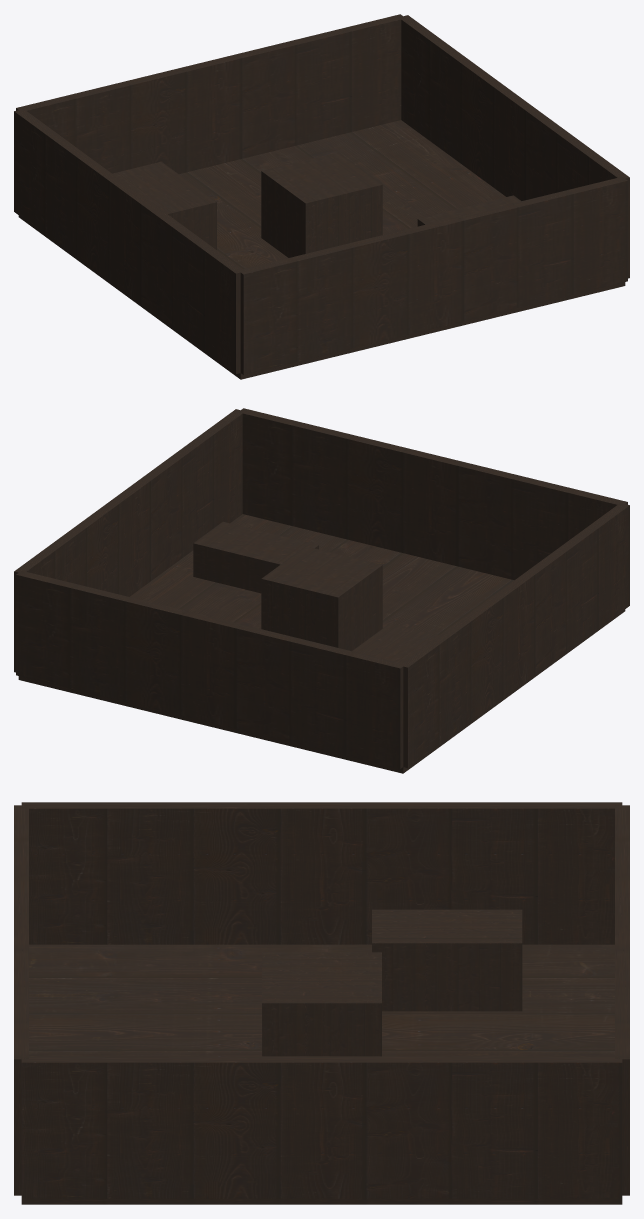
The model's file is basic_map.gltf.
3 renders of one model, top to bottom at view 1: azimuth 30°, elevation 25°; view 2: azimuth 150°, elevation 25°; view 3: azimuth 270°, elevation 25°, orthographic. The views are drawn at different scales.
Parts seen in each view (by area): view 1: South Wall, North Wall, West Wall, Floor, East Wall, Center Block, West Block, East Block; view 2: North Wall, South Wall, West Wall, East Wall, Floor, Center Block, East Block, West Block; view 3: East Wall, West Wall, Floor, West Block, Center Block, South Wall, North Wall.
Part boxes in pixels (<box>): South Wall: <box>240,177,627,374</box>; North Wall: <box>16,14,405,173</box>; West Wall: <box>14,109,244,373</box>; Floor: <box>18,120,625,379</box>; East Wall: <box>401,15,629,278</box>; Center Block: <box>261,152,382,257</box>; West Block: <box>112,161,216,249</box>; East Block: <box>417,195,521,226</box>; North Wall: <box>16,571,404,768</box>; South Wall: <box>238,408,627,580</box>; West Wall: <box>399,503,629,767</box>; East Wall: <box>14,409,244,672</box>; Floor: <box>18,514,625,773</box>; Center Block: <box>261,546,382,651</box>; East Block: <box>193,521,318,593</box>; West Block: <box>352,623,438,662</box>; East Wall: <box>21,1056,622,1198</box>; West Wall: <box>21,802,622,944</box>; Floor: <box>21,944,622,1204</box>; West Block: <box>372,909,522,1011</box>; Center Block: <box>262,952,381,1056</box>; South Wall: <box>14,805,28,1195</box>; North Wall: <box>615,805,629,1195</box>.
Size of the model in its own units: 12.3 by 3.2 by 12.3.
1 material, 1 textured.
